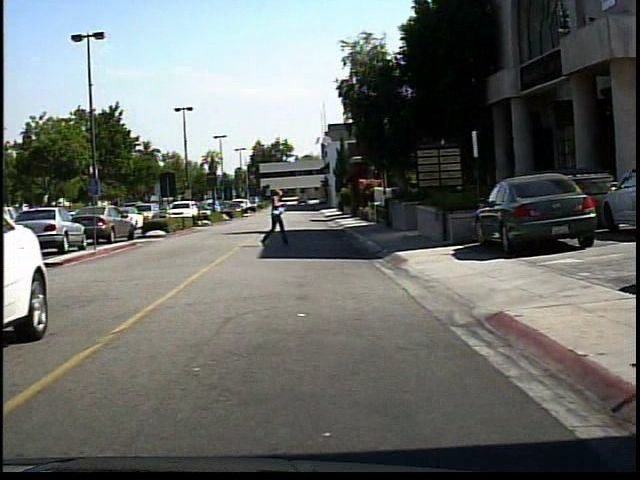person: (257, 186, 290, 250)
